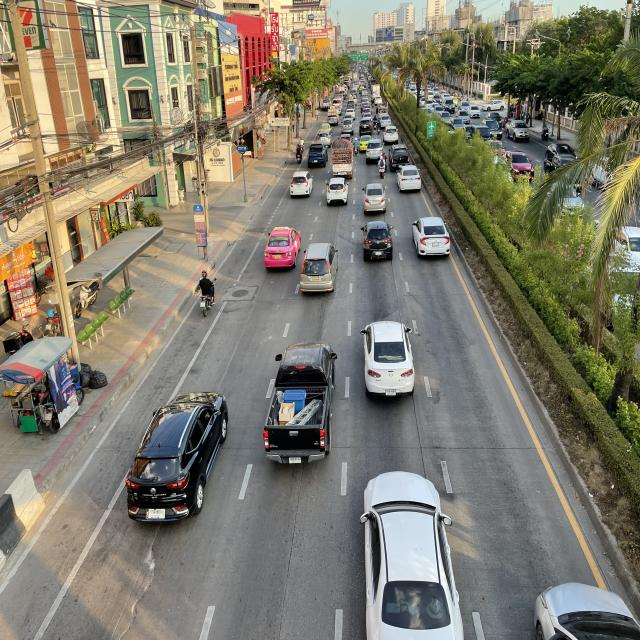bike: (194, 265, 218, 317)
car: (118, 386, 230, 538), (359, 313, 421, 407)
truck: (260, 337, 344, 470), (328, 132, 357, 182)
